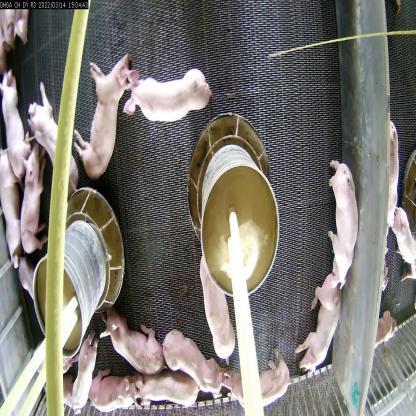Pig: (76, 56, 140, 186), (290, 270, 345, 382), (124, 67, 214, 133), (96, 297, 165, 379), (24, 86, 80, 187), (197, 245, 239, 362), (162, 324, 232, 392), (326, 155, 357, 292), (12, 151, 51, 250), (0, 148, 31, 267), (229, 356, 289, 416), (2, 76, 30, 177), (130, 381, 213, 415), (68, 333, 100, 411), (87, 379, 144, 410)
